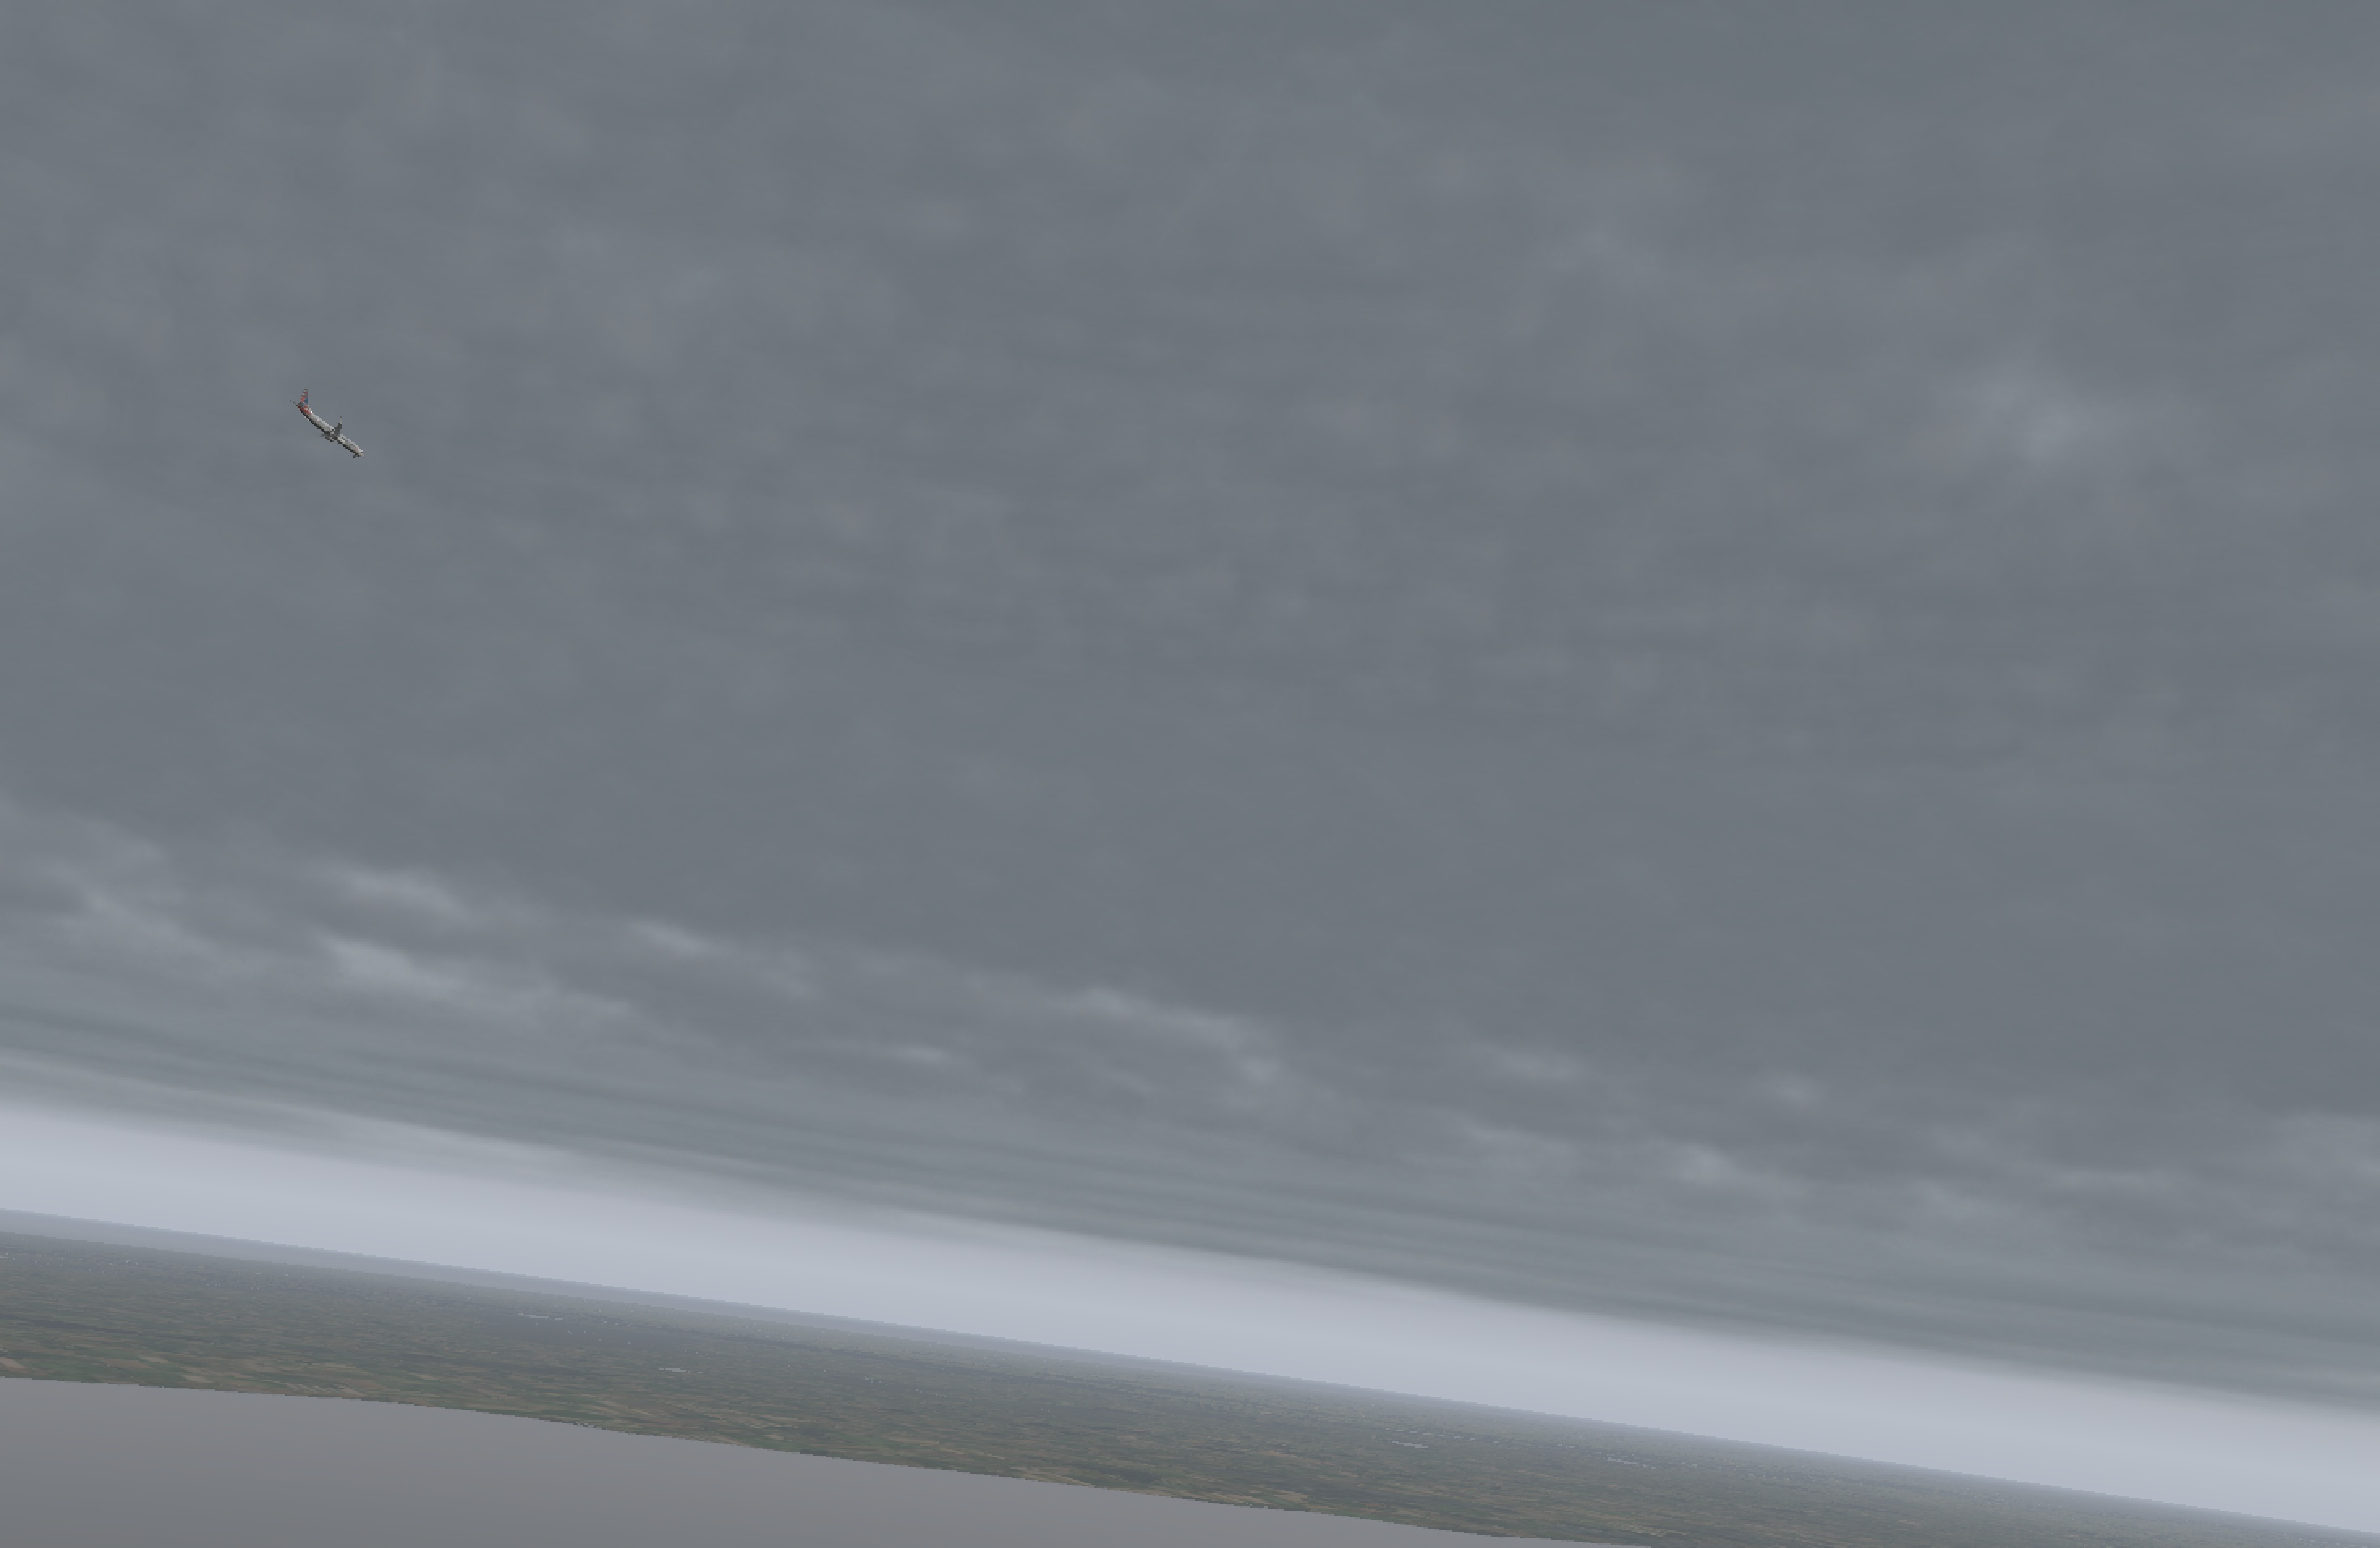aircraft: (291, 418, 371, 449)
